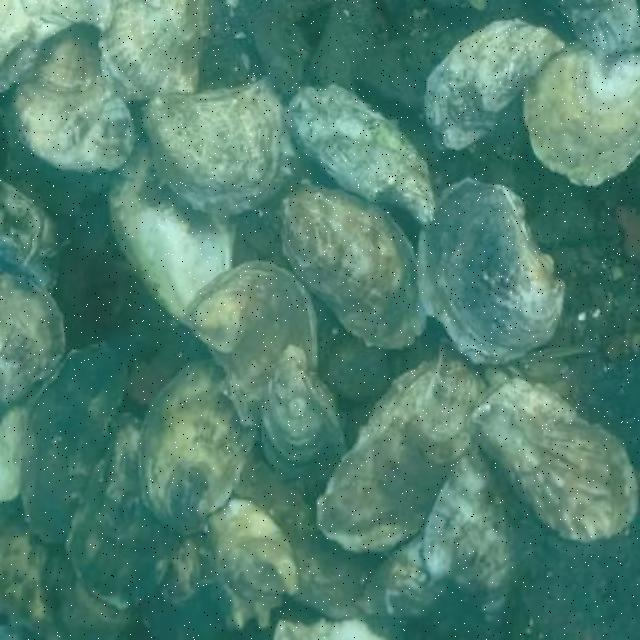Oyster-Closed: (316, 341, 487, 552), (470, 368, 638, 542), (419, 180, 565, 362), (108, 139, 235, 331), (281, 186, 426, 346), (67, 412, 179, 609), (20, 345, 129, 544), (143, 76, 297, 216), (185, 263, 316, 427), (138, 359, 261, 533), (285, 85, 437, 225), (230, 480, 375, 620), (12, 27, 137, 173), (426, 20, 565, 150), (525, 40, 640, 184), (427, 451, 520, 624), (190, 499, 298, 630), (99, 0, 211, 101), (262, 344, 347, 477), (0, 0, 115, 87), (0, 274, 66, 412), (0, 371, 57, 503), (361, 533, 443, 619), (0, 179, 60, 289), (563, 0, 640, 55), (161, 533, 202, 603), (272, 620, 388, 640)
